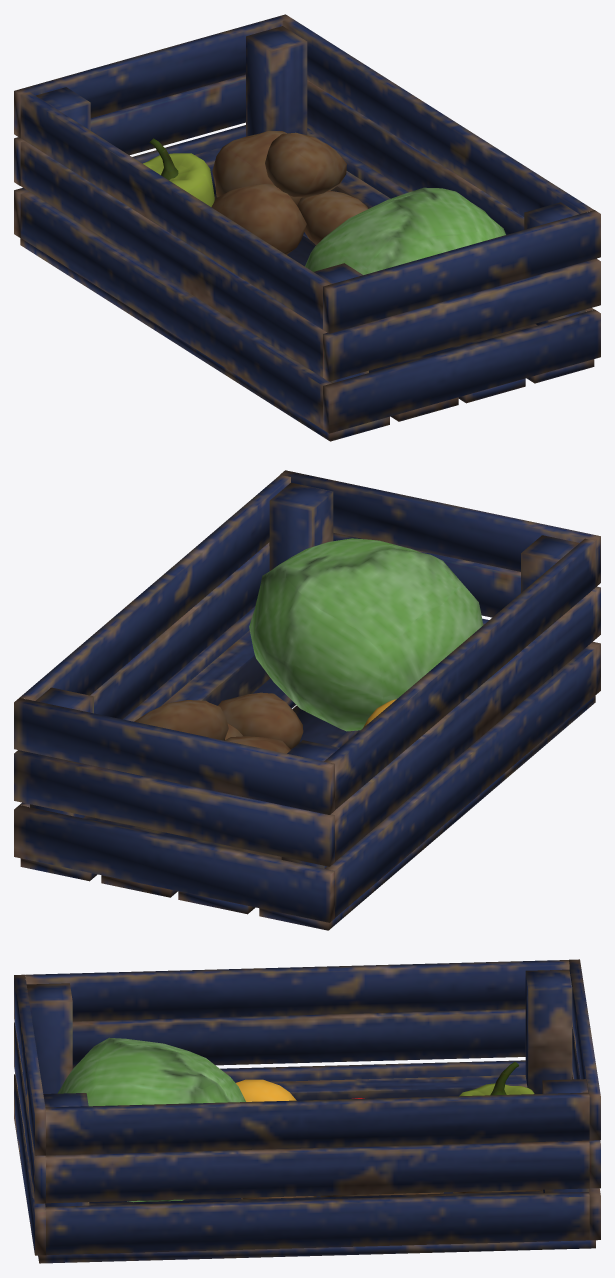
Rendered from loot_food.glb.
The picture shows the model from 3 angles, top to bottom: view 1: azimuth 30°, elevation 25°; view 2: azimuth 150°, elevation 25°; view 3: azimuth 270°, elevation 25°; orthographic projection. The views are drawn at different scales.
Parts seen in each view (by area): view 1: loot_food_mesh; view 2: loot_food_mesh; view 3: loot_food_mesh.
Part boxes in pixels (x1,y1,x2,y2): loot_food_mesh: (14,14,600,441); loot_food_mesh: (14,470,600,930); loot_food_mesh: (14,959,600,1263).
Bounding box in the file's own units: 0.3703 × 0.1727 × 0.6.
Materials: 1 (1 with a texture image).
